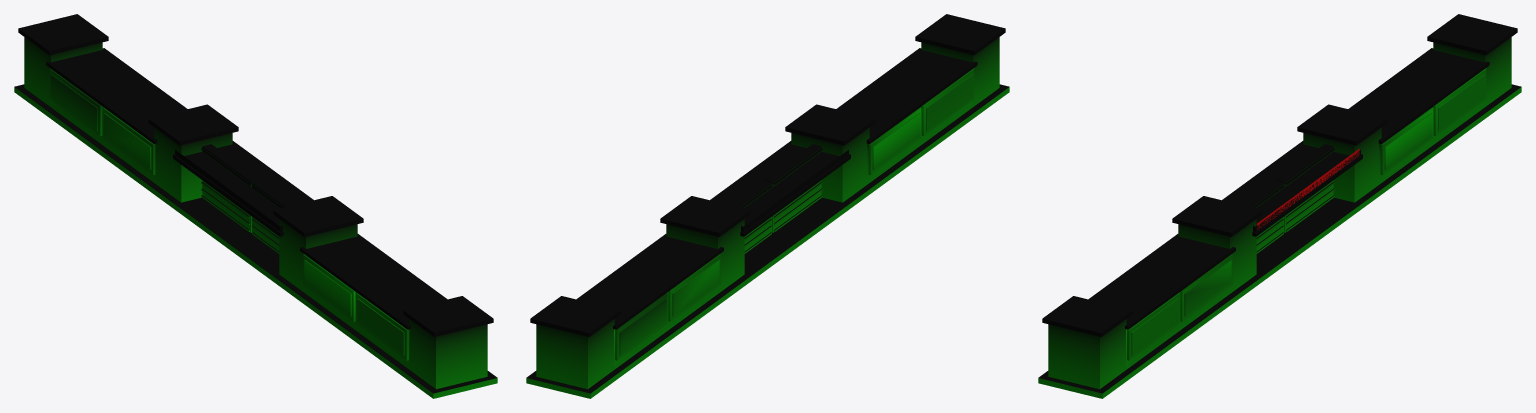
File: s_lightgate.glb
3 views of the same model, side by side, from view 1: azimuth 30°, elevation 25°; view 2: azimuth 150°, elevation 25°; view 3: azimuth 330°, elevation 25° (orthographic).
Visible parts, largest first — view 1: lod0, door_l, door_r; view 2: lod0, door_r, door_l; view 3: lod0, door_l, door_r.
Part boxes in pixels (box(x1,y1,x2,y2)): lod0: box(14, 14, 497, 398); door_l: box(201, 144, 259, 232); door_r: box(252, 180, 293, 253); lod0: box(526, 14, 1009, 398); door_r: box(764, 144, 822, 232); door_l: box(730, 180, 771, 253); lod0: box(1038, 14, 1521, 398); door_l: box(1276, 144, 1334, 232); door_r: box(1242, 180, 1283, 253).
Size of what is drawn, in the model's own units: 5 by 5.12 by 56.4.
